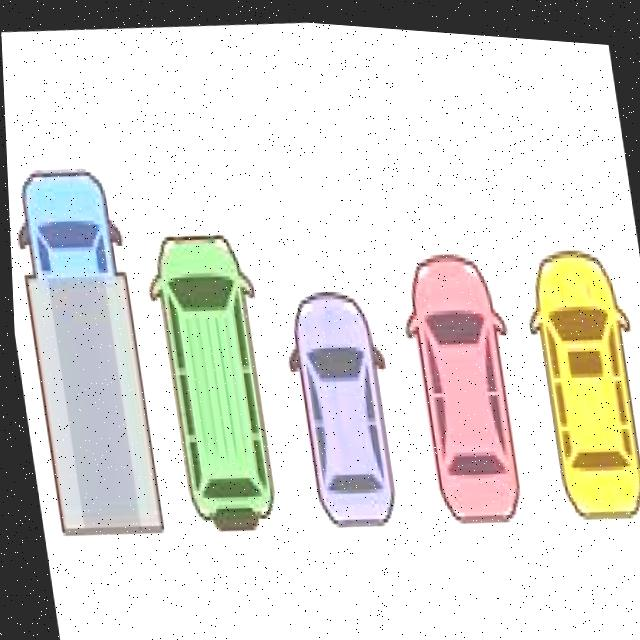truck: (6, 158, 164, 546)
